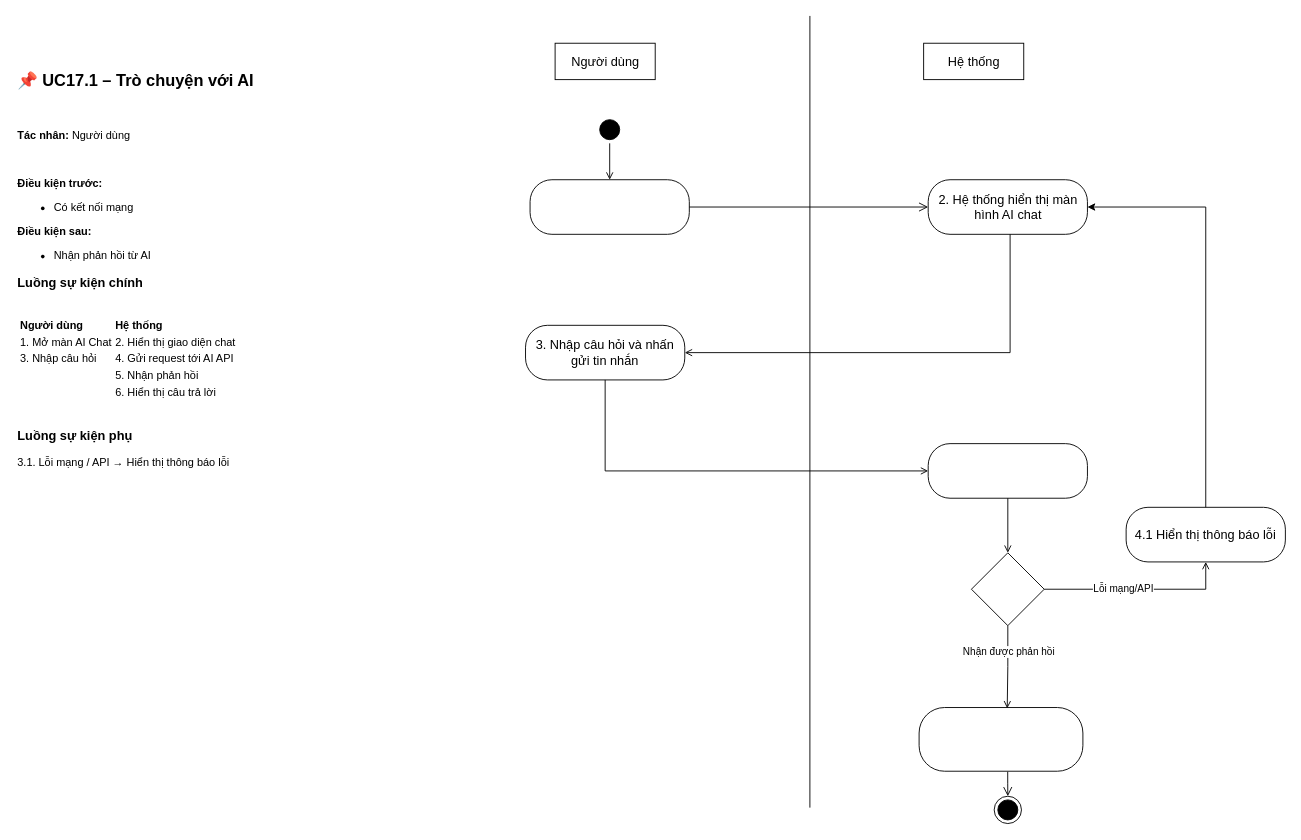
The diagram is 1301 pixels wide and 840 high, and some of its shapes have lost their labels. Each missing label, with the centre of its shape:
"1. Người dùng mở màn AI chat" goes at pixel 609 206.
"4. Gửi request tới AI API" goes at pixel 1007 470.
"5. Hiển thị câu trả lời" goes at pixel 1000 739.
